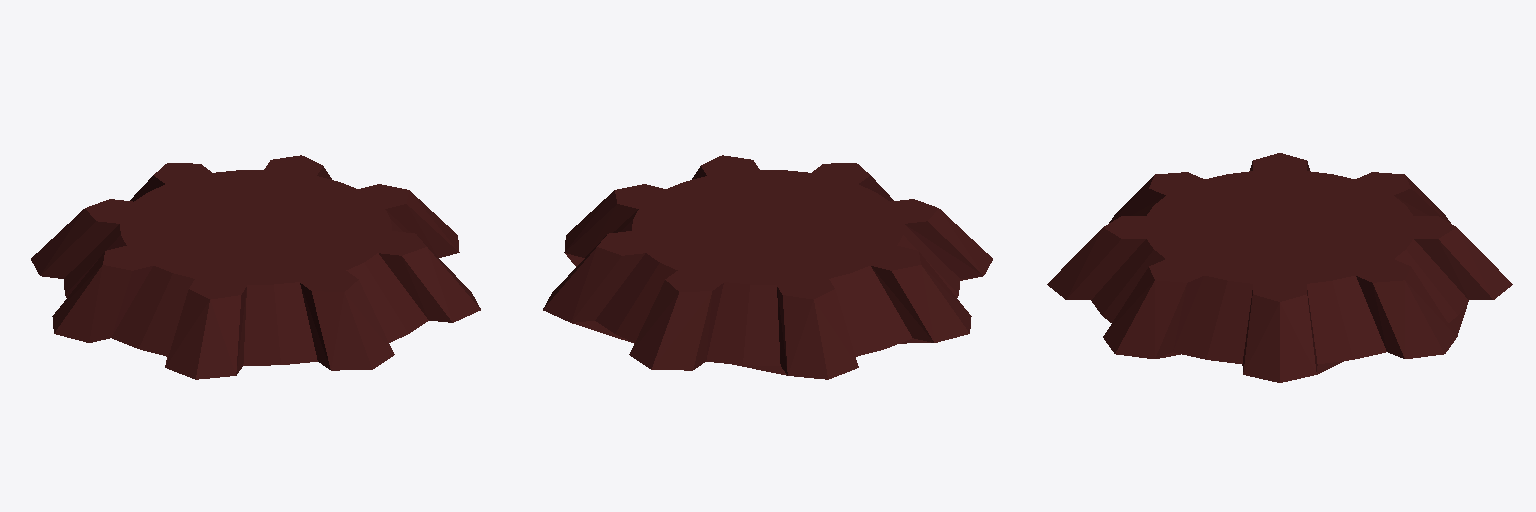
Rendered from fort1base.obj.
The picture shows the model from 3 angles: view 1: azimuth 30°, elevation 25°; view 2: azimuth 150°, elevation 25°; view 3: azimuth 270°, elevation 25°; orthographic projection.
Parts seen in each view (by area): view 1: FortBase; view 2: FortBase; view 3: FortBase.
Part boxes in pixels (bbox=[...]): FortBase: bbox=[31, 155, 480, 379]; FortBase: bbox=[543, 155, 992, 379]; FortBase: bbox=[1047, 153, 1512, 382].
Bounding box in the file's own units: 6.85 × 0.9255 × 6.85.